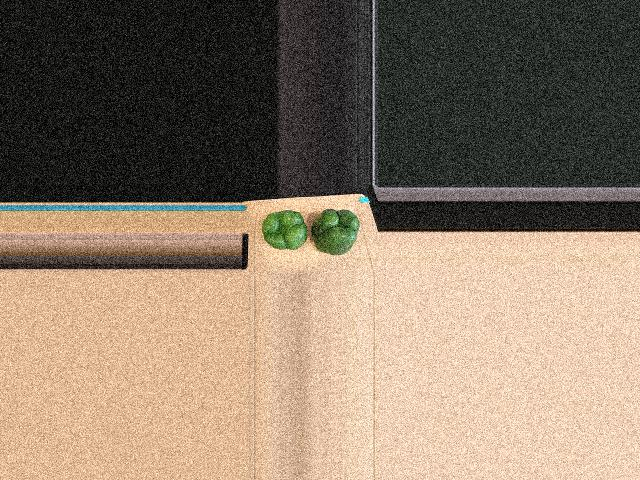bell_pepper: (262, 209, 309, 255)
